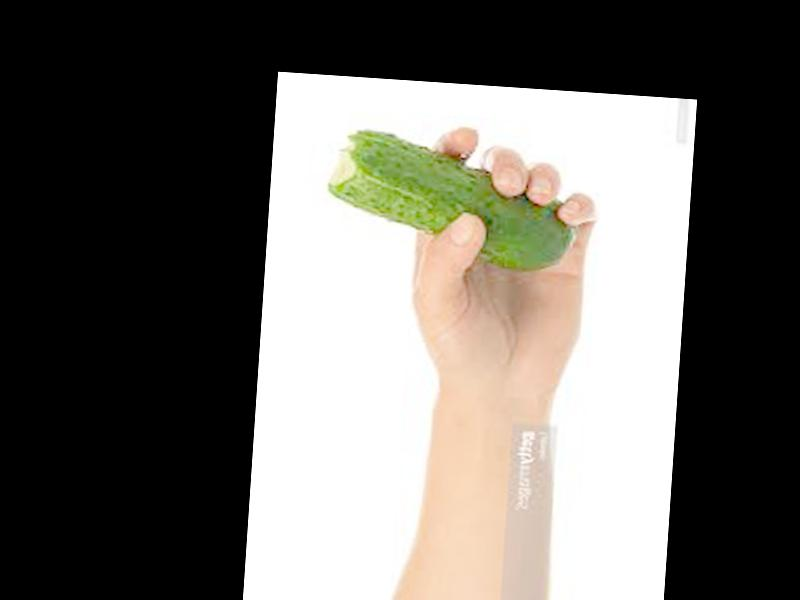Cucumber: (323, 128, 579, 273)
